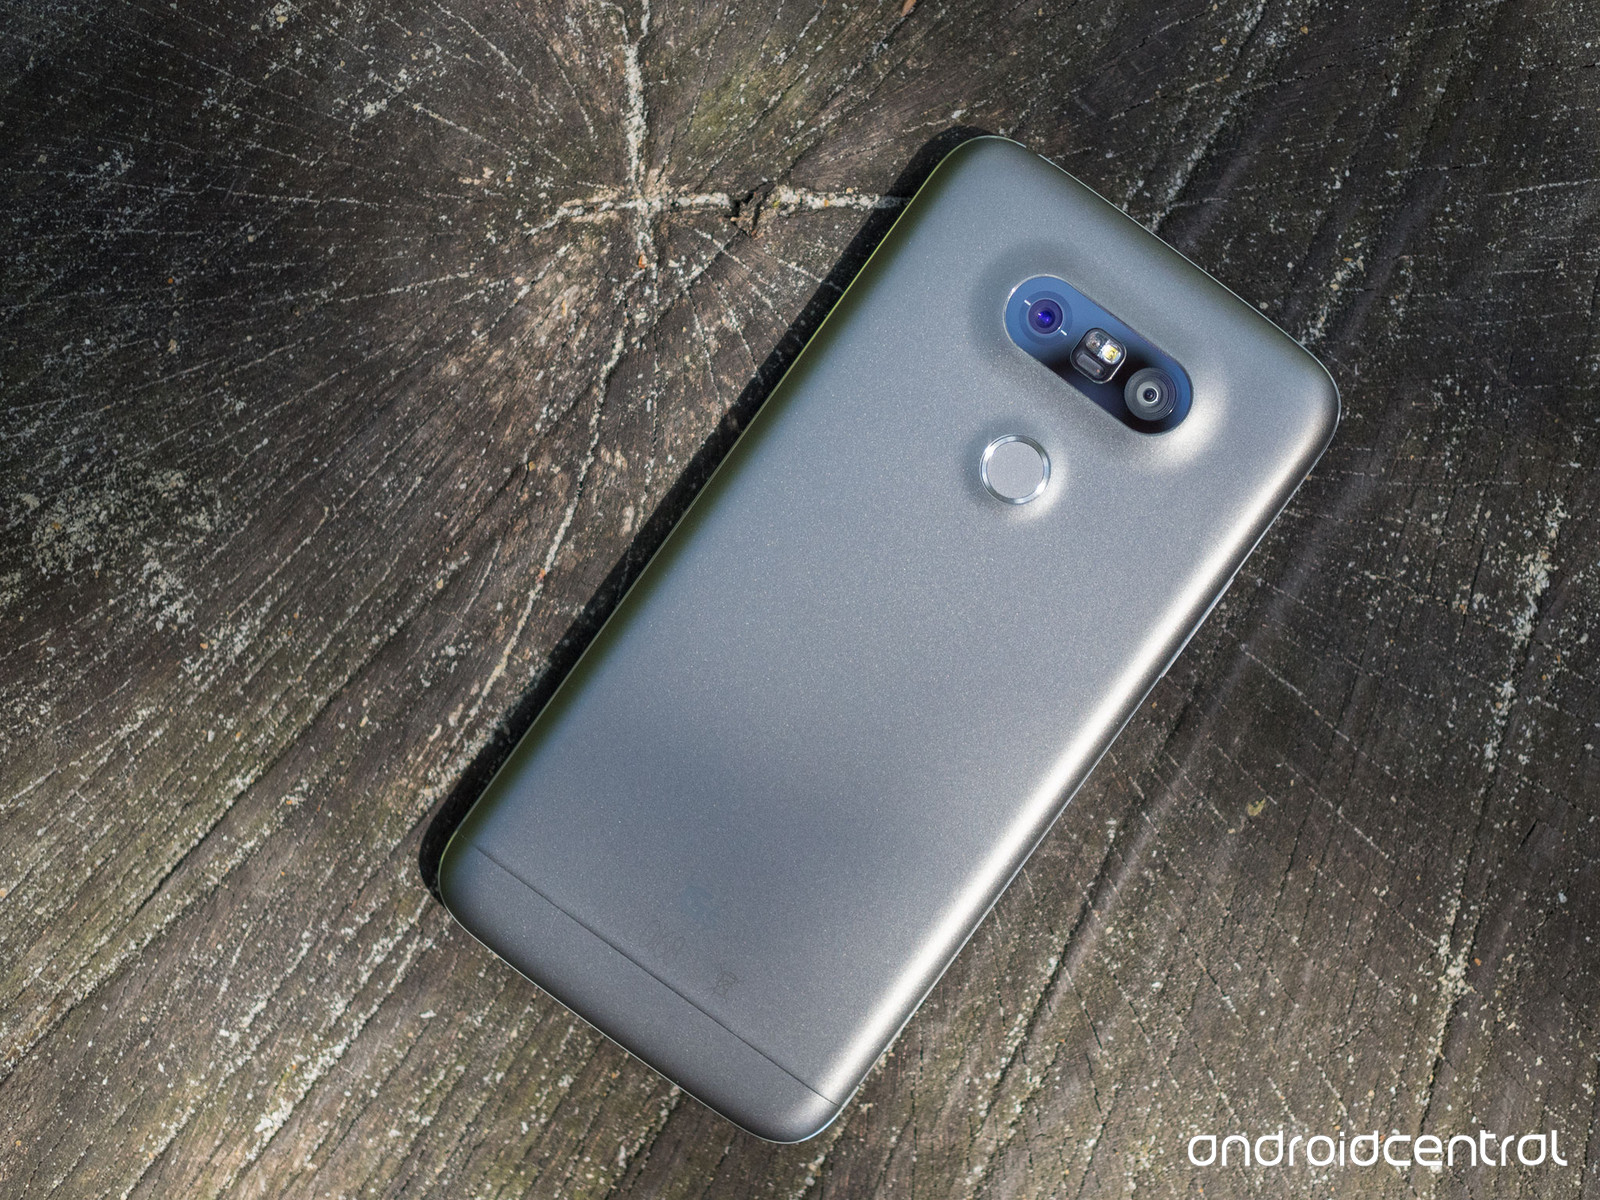smartphone: (431, 134, 1342, 1145)
